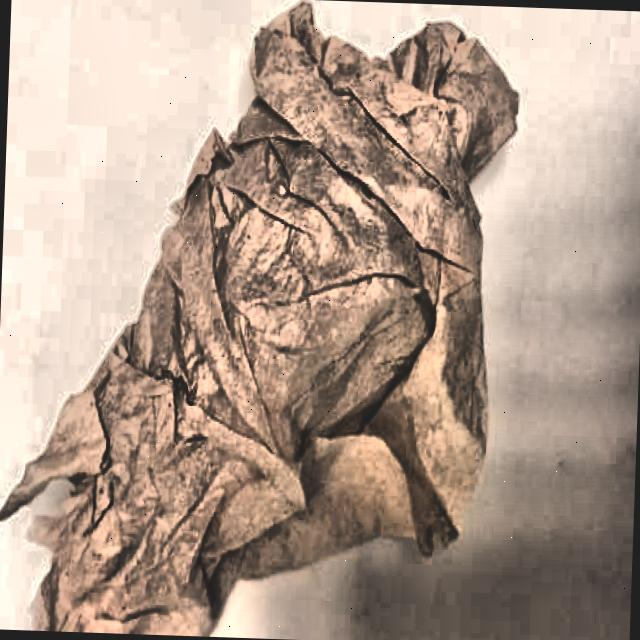trash: (78, 0, 493, 640)
